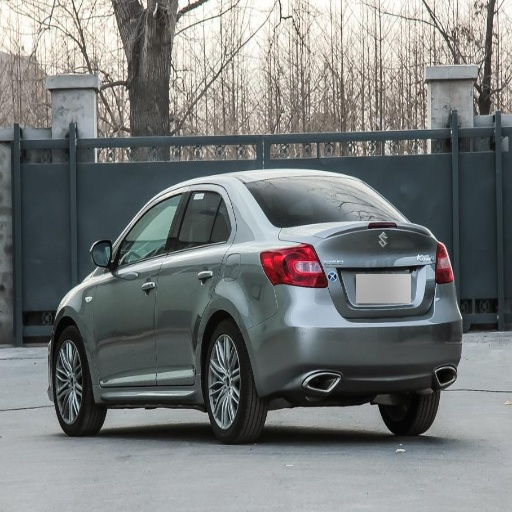back_bumper: (244, 285, 463, 403)
back_glass: (245, 176, 390, 226)
back_left_door: (155, 183, 234, 385)
